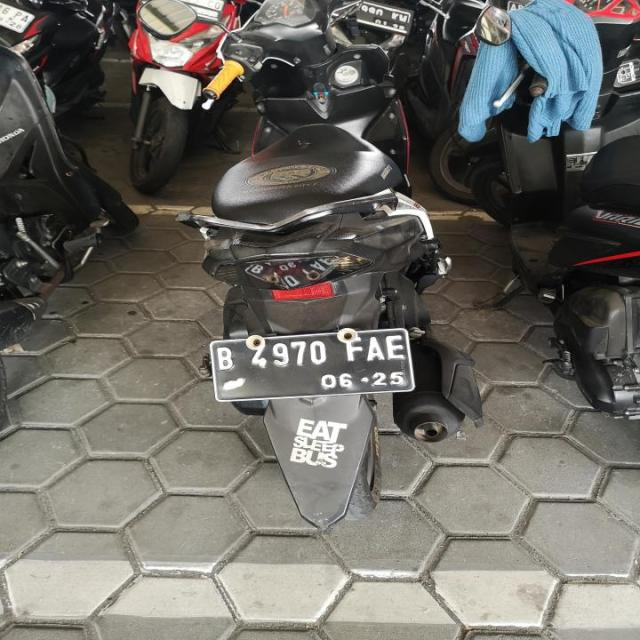License Plate: (210, 328, 417, 403)
